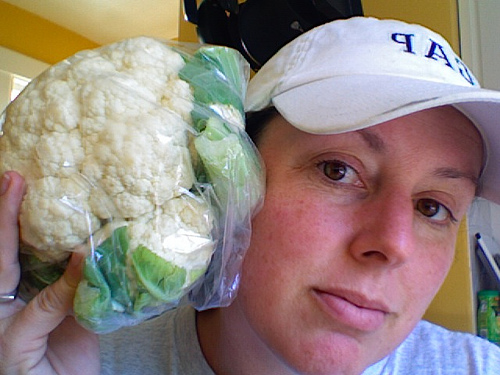cauliflower: (0, 35, 268, 333)
